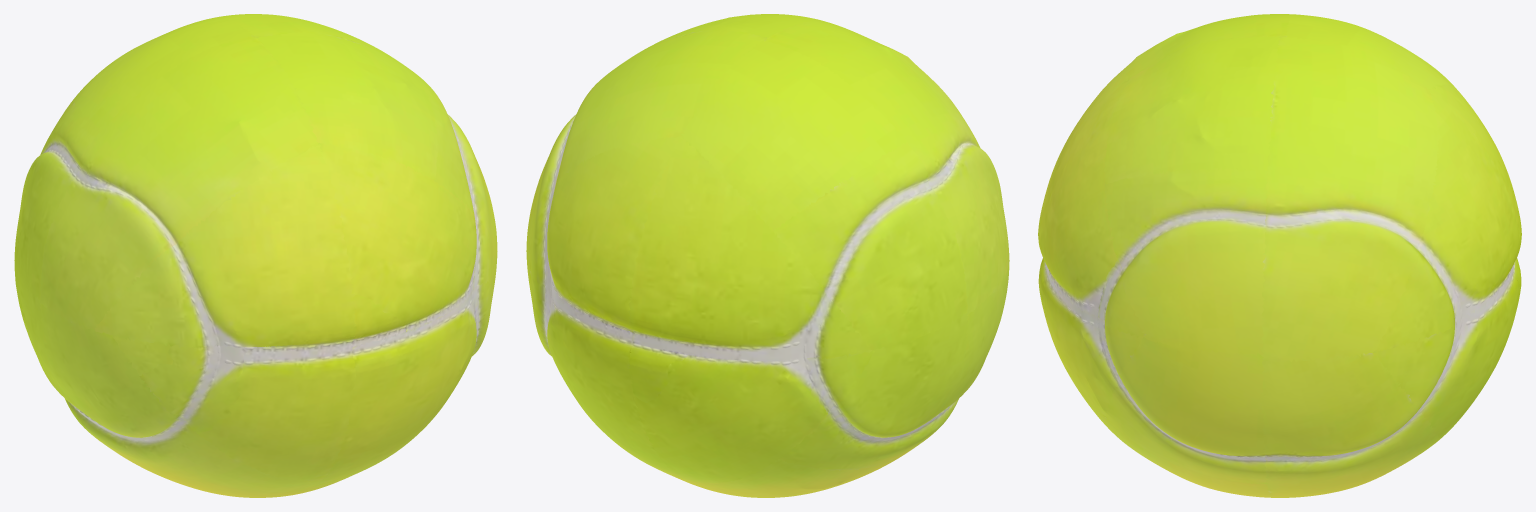
Rendered from Pallina tennis.glb.
3 views of the same model, side by side, from view 1: azimuth 30°, elevation 25°; view 2: azimuth 150°, elevation 25°; view 3: azimuth 270°, elevation 25° (orthographic).
Bounding box in the file's own units: 1.89 × 1.89 × 1.89.
Materials: 1 (1 with a texture image).
